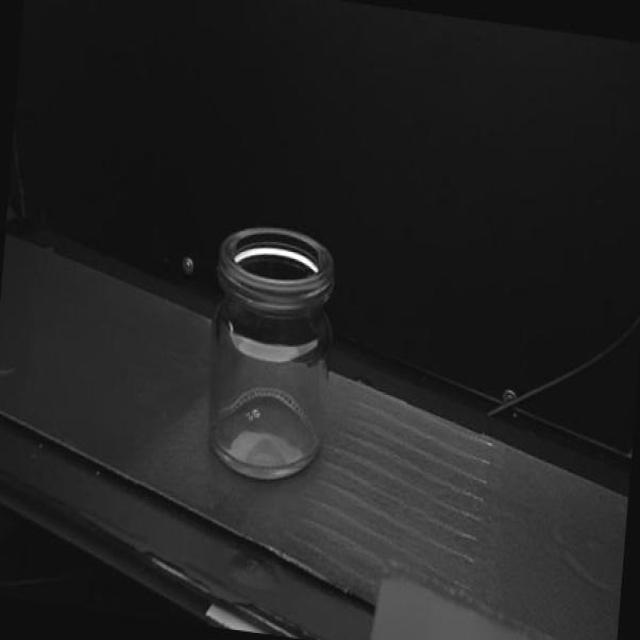defect: (224, 317, 235, 334)
glass: (198, 218, 345, 486)
